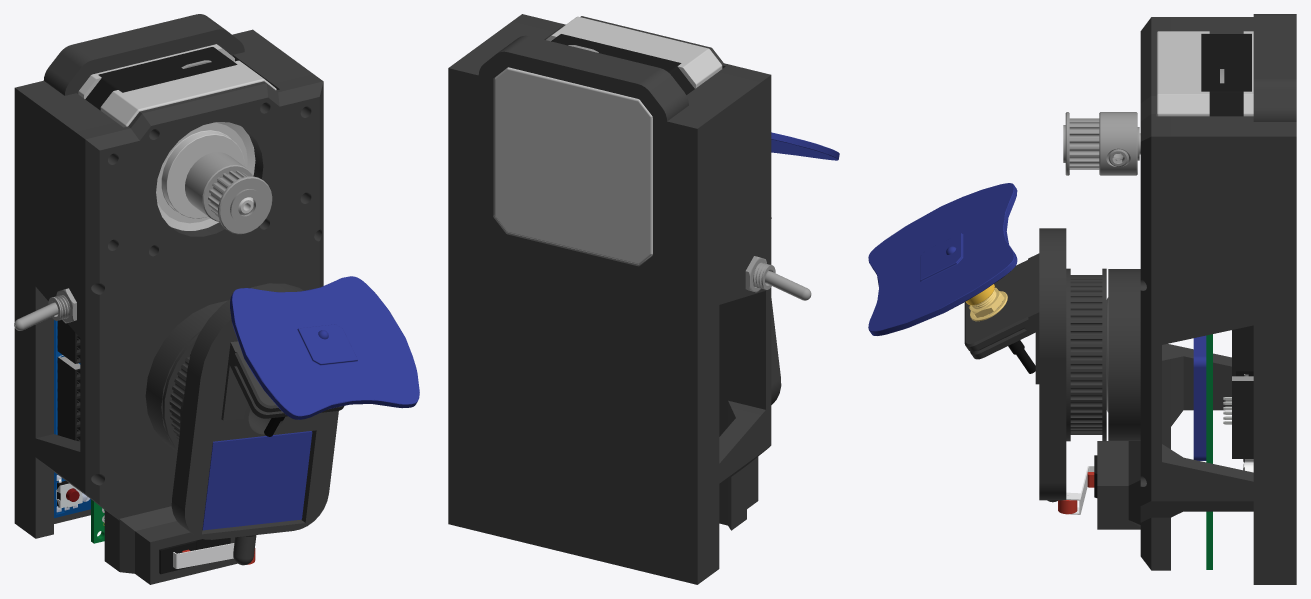
File: fpv-antenna-tracker.glb
3 renders of one model, left to right at view 1: azimuth 30°, elevation 25°; view 2: azimuth 150°, elevation 25°; view 3: azimuth 270°, elevation 25°, orthographic. The views are drawn at different scales.
Visible parts, largest first — view 1: Antenna tracker; view 2: Antenna tracker; view 3: Antenna tracker.
Part boxes in pixels (box(x1,y1,x2,y2)): Antenna tracker: box(14, 14, 419, 584); Antenna tracker: box(448, 14, 839, 584); Antenna tracker: box(868, 14, 1296, 584).
Size of the model in its own units: 0.0818 by 0.1244 by 0.101.
